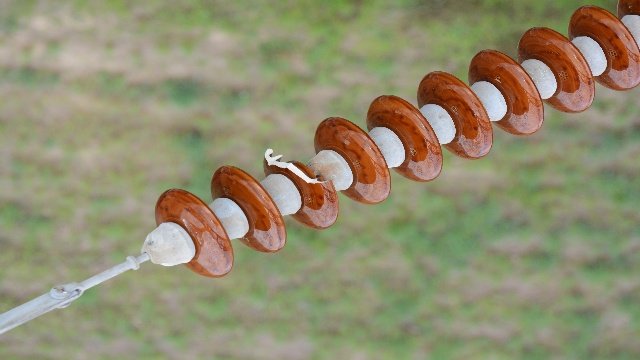broken_local: (264, 147, 332, 190)
insulator_unspecified: (155, 2, 639, 278)
